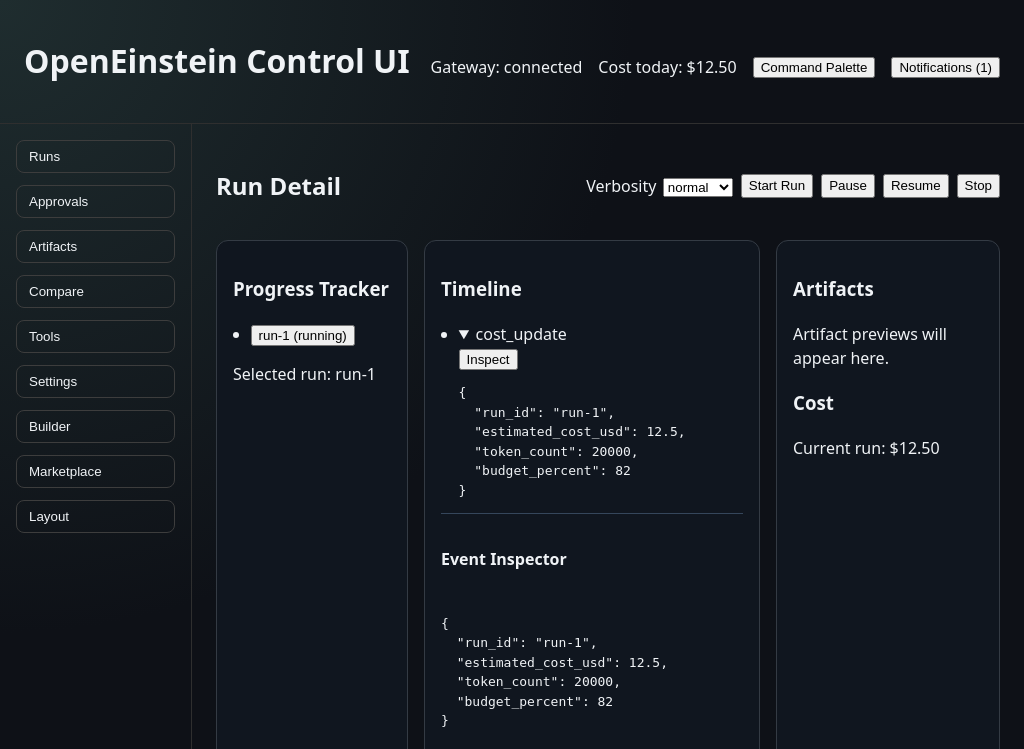
Test case: App cost and notifications wiring › fans out cost_update to top bar, run panel, status bar, and notification drawer
Expected: the heading "Run Detail" is shown, [216,168,341,204]
Expected: the text "Cost today: $12.50" is shown, [598,55,737,79]
Step 1. Click the button "Notifications (1)" → (946, 67), box [891,57,1000,78]
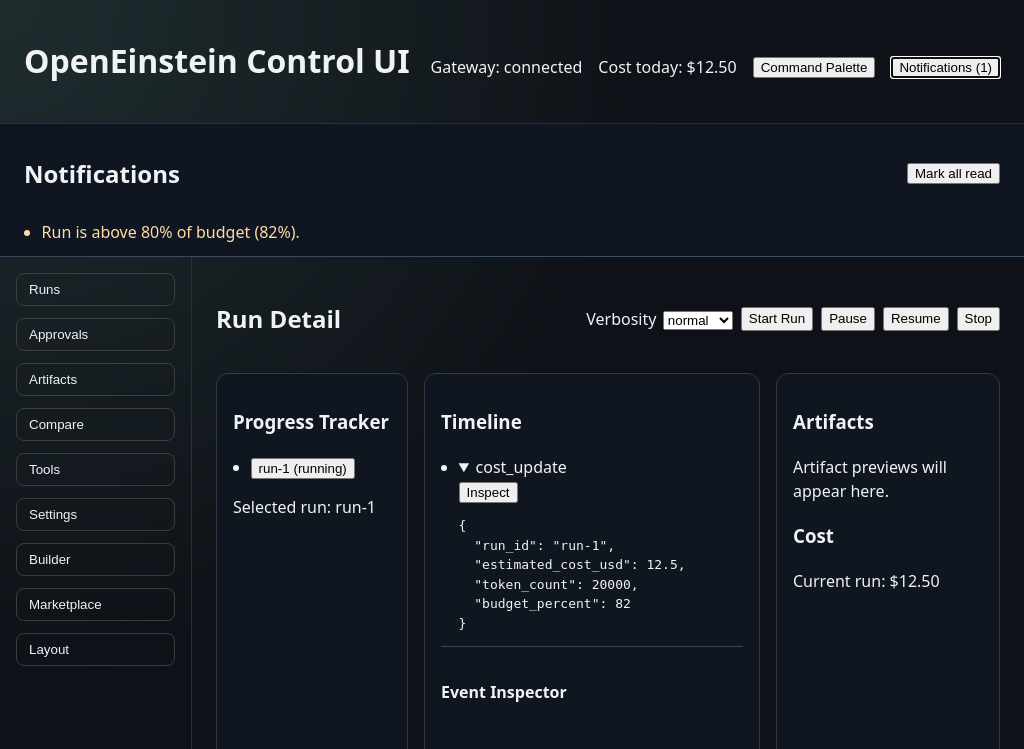
Now the list item "Run is above 80% of budget (82%)." is shown, box [42,221,300,243]
